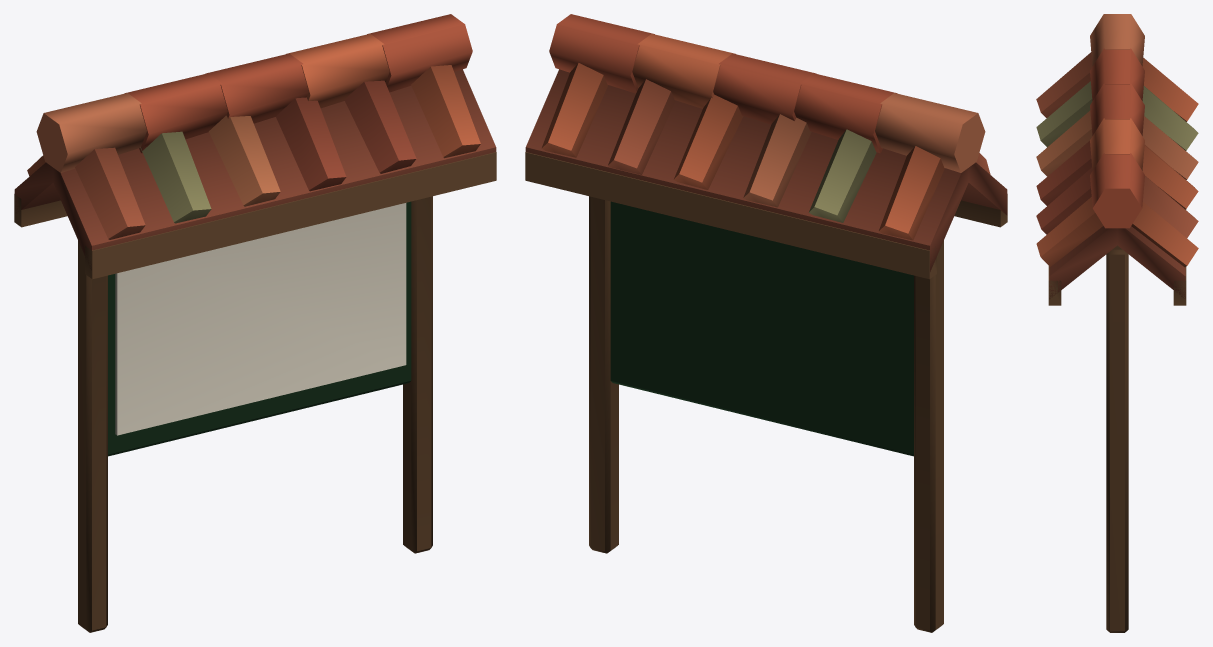
Rendered from notice_board.glb.
The picture shows the model from 3 angles, left to right: view 1: azimuth 30°, elevation 25°; view 2: azimuth 150°, elevation 25°; view 3: azimuth 270°, elevation 25°; orthographic projection. The views are drawn at different scales.
Visible parts, largest first — view 1: notice_board_mesh; view 2: notice_board_mesh; view 3: notice_board_mesh.
Boxes of the visible parts, x1,y1,x2,y2 form: notice_board_mesh: (14, 14, 496, 632); notice_board_mesh: (525, 14, 1007, 632); notice_board_mesh: (1036, 14, 1198, 632).
Bounding box in the file's own units: 2.26 × 2.75 × 0.8848.
